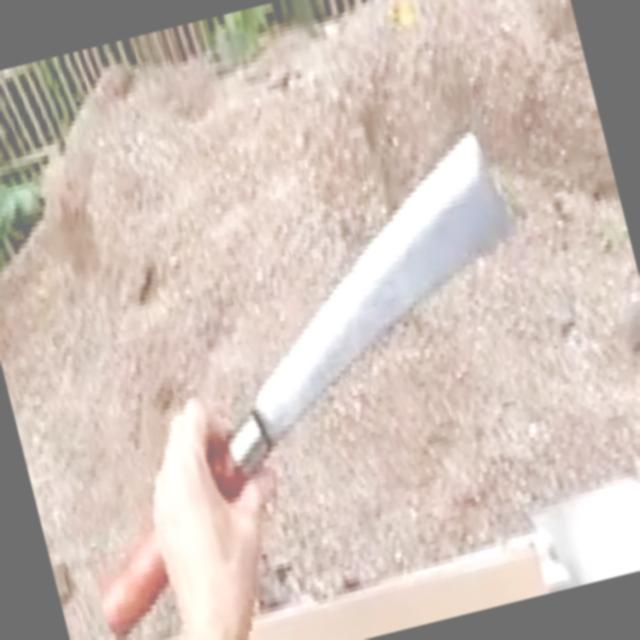eto: (98, 133, 517, 640)
